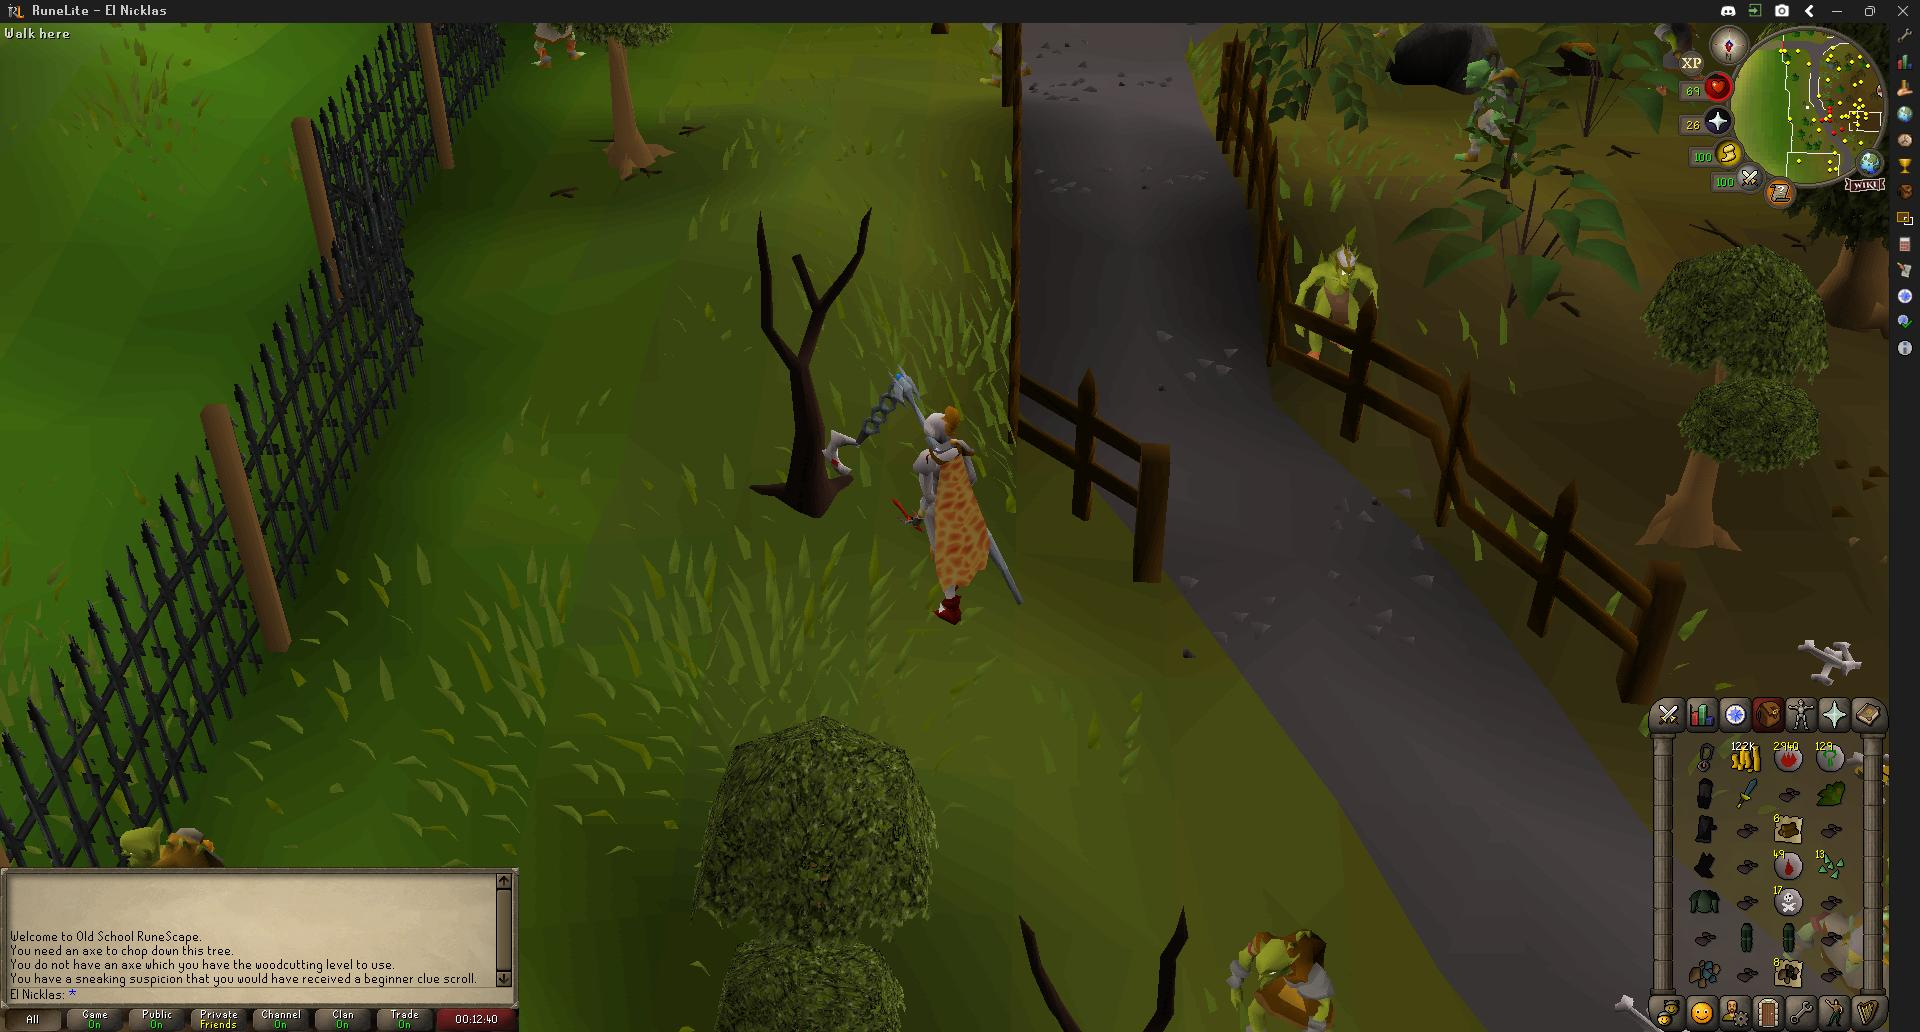Player: (904, 391, 1019, 619)
goblin: (1213, 912, 1372, 1032), (1299, 235, 1377, 365), (1456, 58, 1525, 168), (100, 813, 230, 870), (531, 22, 585, 69)
